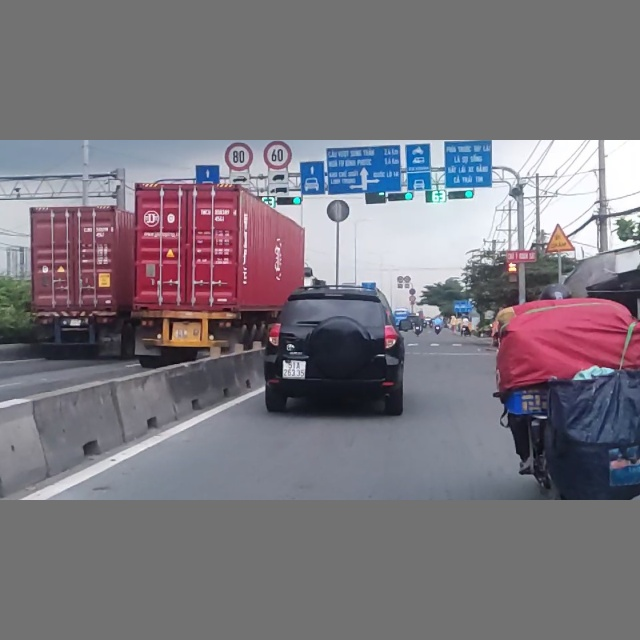P.127*60: (263, 141, 292, 170)
P.127*80: (224, 143, 253, 171)
W.245a: (544, 223, 575, 253)
